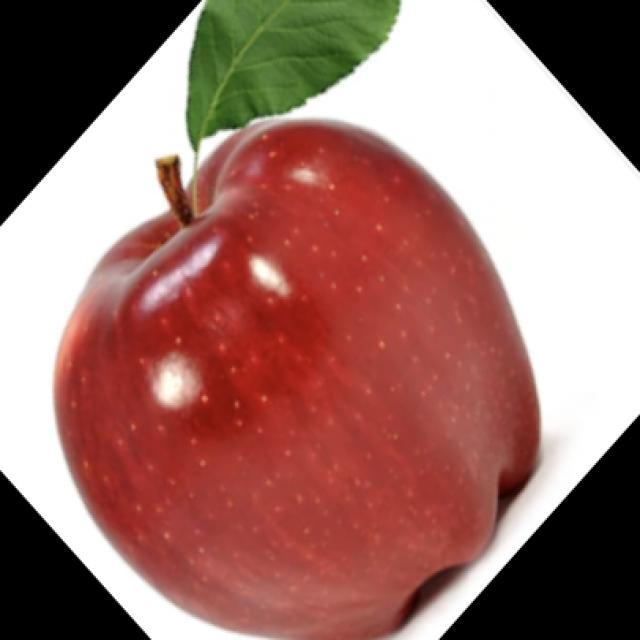Fresh Apple: (53, 128, 565, 640)
